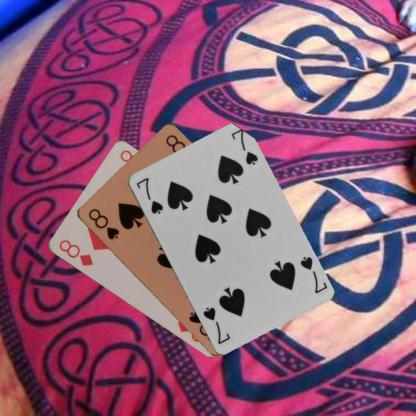7s: (133, 174, 164, 216), (297, 254, 329, 294)
8d: (56, 237, 94, 267)
8s: (86, 206, 120, 242)
